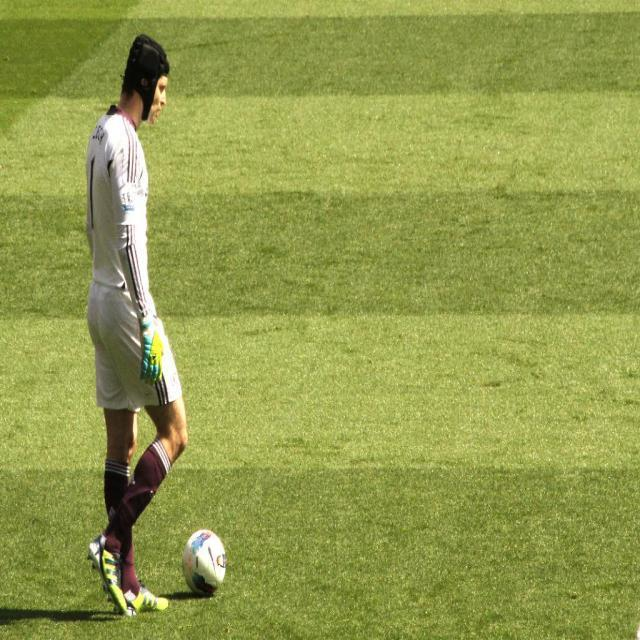football: (170, 531, 271, 626)
